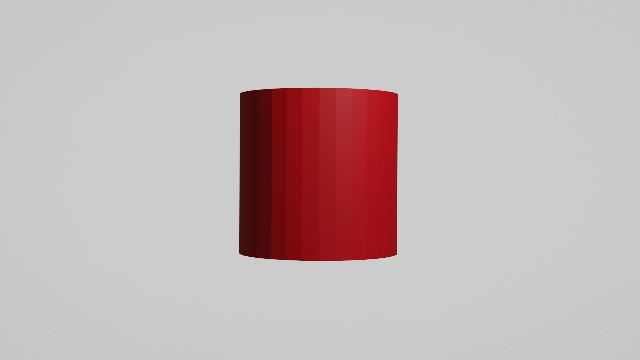Cylinder: (228, 84, 404, 268)
